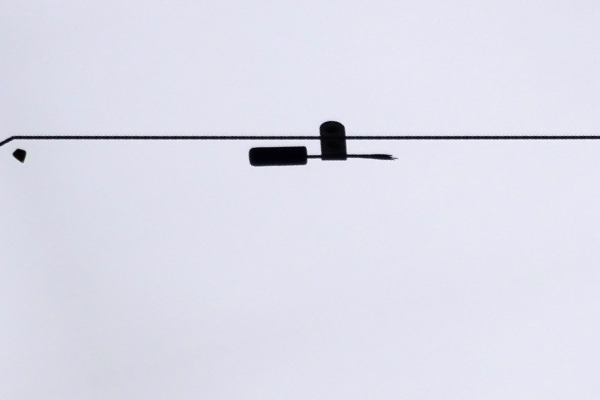damper_defect: (247, 119, 399, 168)
